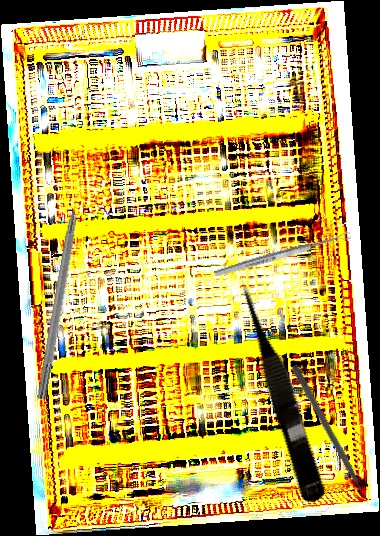Hook Surgical: (35, 180, 88, 401)
Micro Scissor: (232, 274, 332, 507)
Pusher: (289, 364, 372, 507)
Surgical Spoon: (213, 230, 352, 279)
